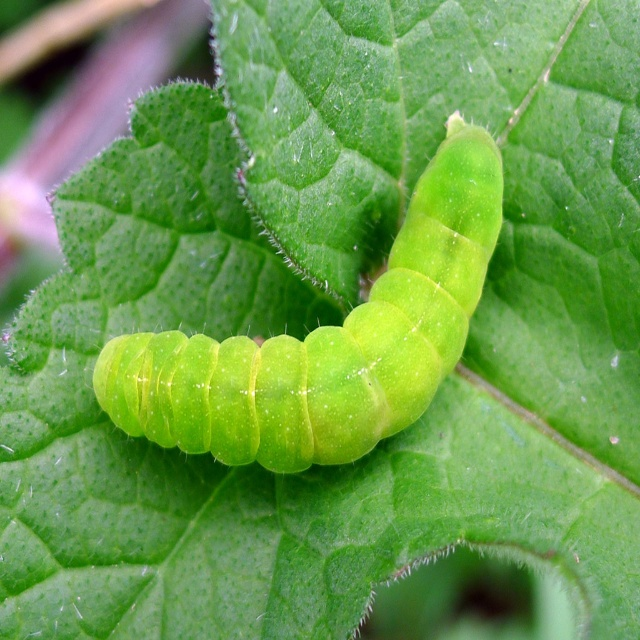Caterpillar: (91, 106, 504, 475)
